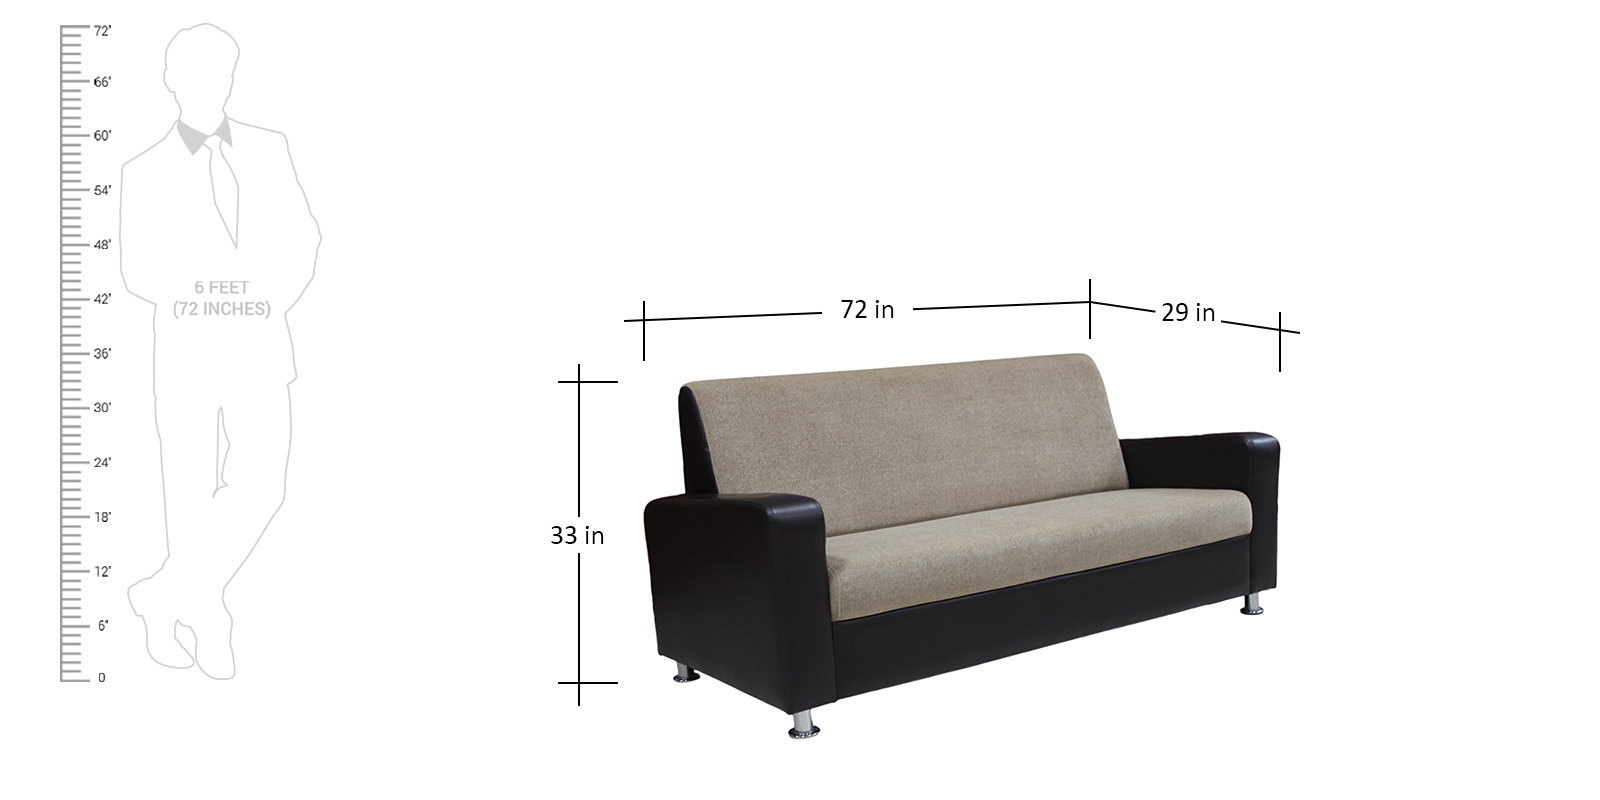New Ciara Three Seater Sofa in Dual Tone by Crystal Furnitech: (646, 350, 1279, 737)
